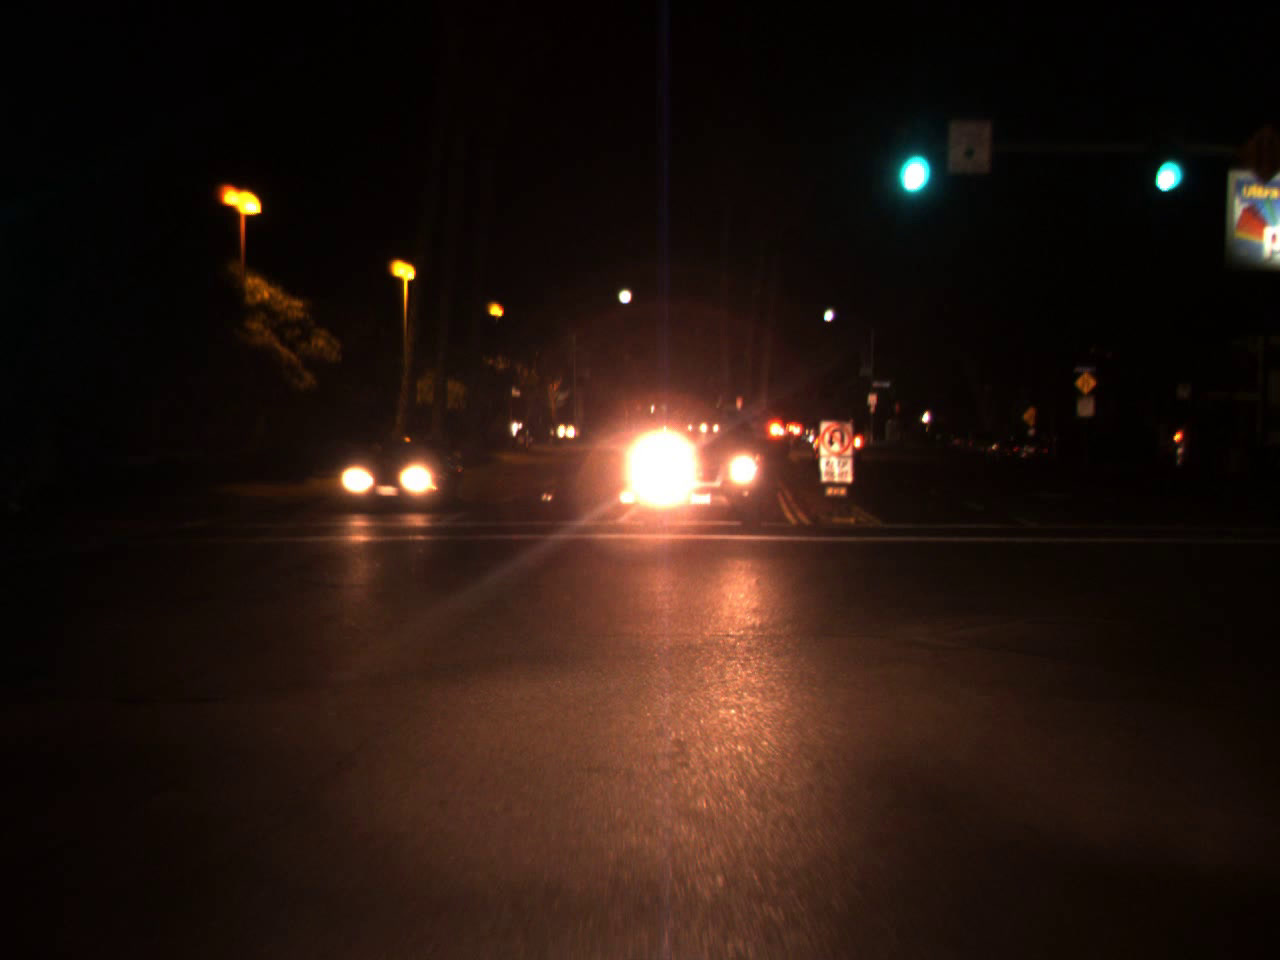go: (890, 117, 931, 204), (1147, 130, 1188, 205)
